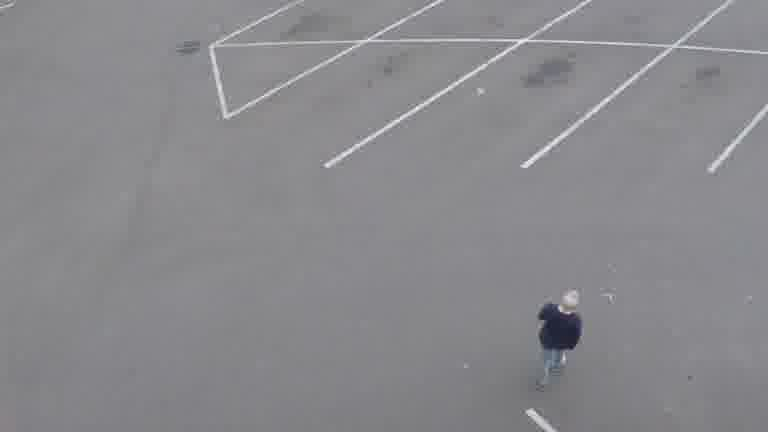cycle: (532, 289, 585, 392)
